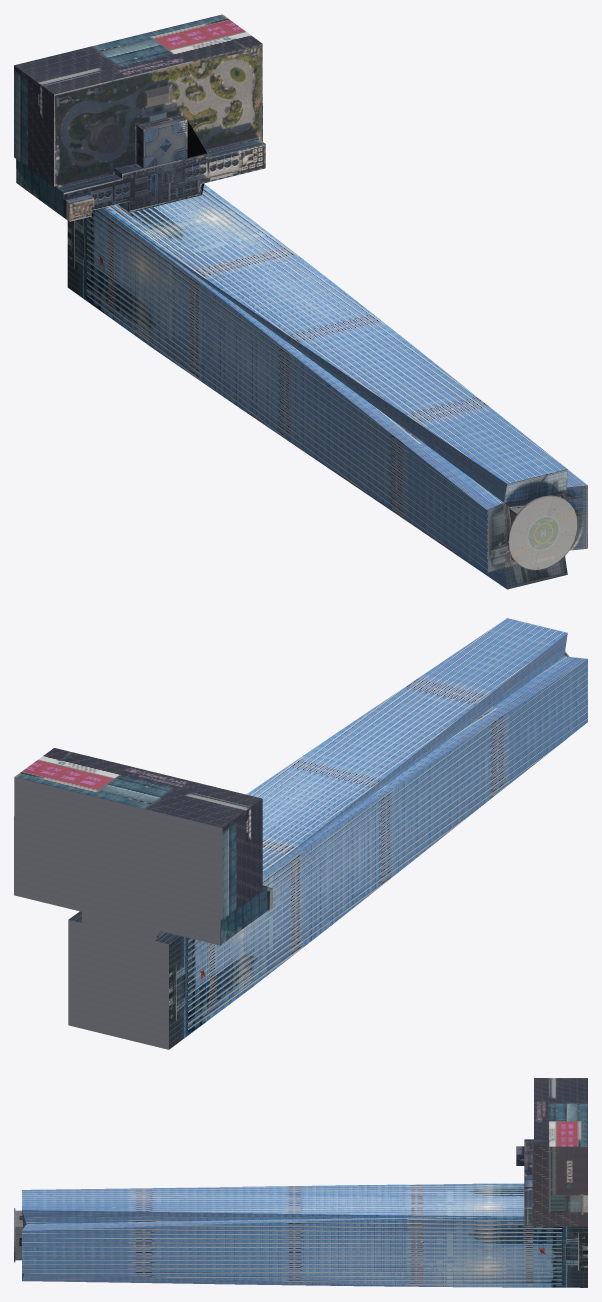
Rendered from 011-opt.glb.
The picture shows the model from 3 angles, top to bottom: view 1: azimuth 30°, elevation 25°; view 2: azimuth 150°, elevation 25°; view 3: azimuth 270°, elevation 25°; orthographic projection. The views are drawn at different scales.
Visible parts, largest first — view 1: Asset3DLoader.sceneRoot_primitive3, Asset3DLoader.sceneRoot_primitive11, Asset3DLoader.sceneRoot_primitive24, Asset3DLoader.sceneRoot_primitive36, Asset3DLoader.sceneRoot_primitive2, Asset3DLoader.sceneRoot_primitive1, Asset3DLoader.sceneRoot_primitive13, Asset3DLoader.sceneRoot_primitive8; view 2: Asset3DLoader.sceneRoot_primitive3, Asset3DLoader.sceneRoot_primitive4, Asset3DLoader.sceneRoot_primitive24, Asset3DLoader.sceneRoot_primitive13, Asset3DLoader.sceneRoot_primitive8; view 3: Asset3DLoader.sceneRoot_primitive3, Asset3DLoader.sceneRoot_primitive28, Asset3DLoader.sceneRoot_primitive24, Asset3DLoader.sceneRoot_primitive0.
Part boxes in pixels (bbox=[...]): Asset3DLoader.sceneRoot_primitive3: bbox=[67, 184, 587, 589]; Asset3DLoader.sceneRoot_primitive11: bbox=[54, 44, 262, 187]; Asset3DLoader.sceneRoot_primitive24: bbox=[14, 14, 262, 94]; Asset3DLoader.sceneRoot_primitive36: bbox=[63, 120, 265, 212]; Asset3DLoader.sceneRoot_primitive2: bbox=[487, 469, 587, 589]; Asset3DLoader.sceneRoot_primitive1: bbox=[508, 496, 577, 570]; Asset3DLoader.sceneRoot_primitive13: bbox=[14, 65, 53, 186]; Asset3DLoader.sceneRoot_primitive8: bbox=[16, 159, 63, 217]; Asset3DLoader.sceneRoot_primitive3: bbox=[68, 618, 587, 1049]; Asset3DLoader.sceneRoot_primitive4: bbox=[14, 777, 222, 1049]; Asset3DLoader.sceneRoot_primitive24: bbox=[14, 748, 261, 827]; Asset3DLoader.sceneRoot_primitive13: bbox=[222, 799, 262, 919]; Asset3DLoader.sceneRoot_primitive8: bbox=[220, 887, 267, 945]; Asset3DLoader.sceneRoot_primitive3: bbox=[22, 1183, 587, 1287]; Asset3DLoader.sceneRoot_primitive28: bbox=[534, 1146, 587, 1226]; Asset3DLoader.sceneRoot_primitive24: bbox=[534, 1078, 587, 1146]; Asset3DLoader.sceneRoot_primitive0: bbox=[14, 1208, 23, 1262].
Size of the model in its own units: 93 by 100 by 328.
35 materials, 35 textured.
